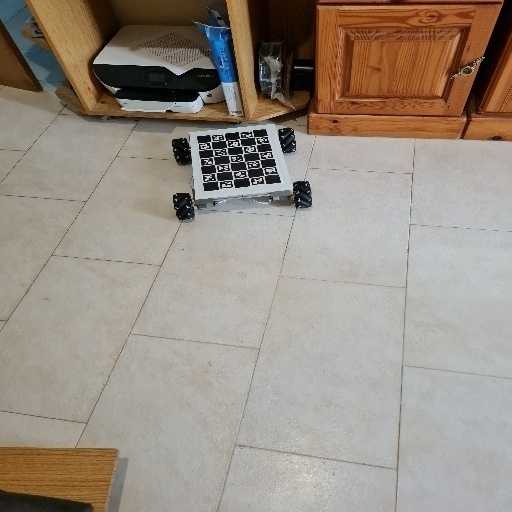Omniwheel: (170, 122, 314, 222)
